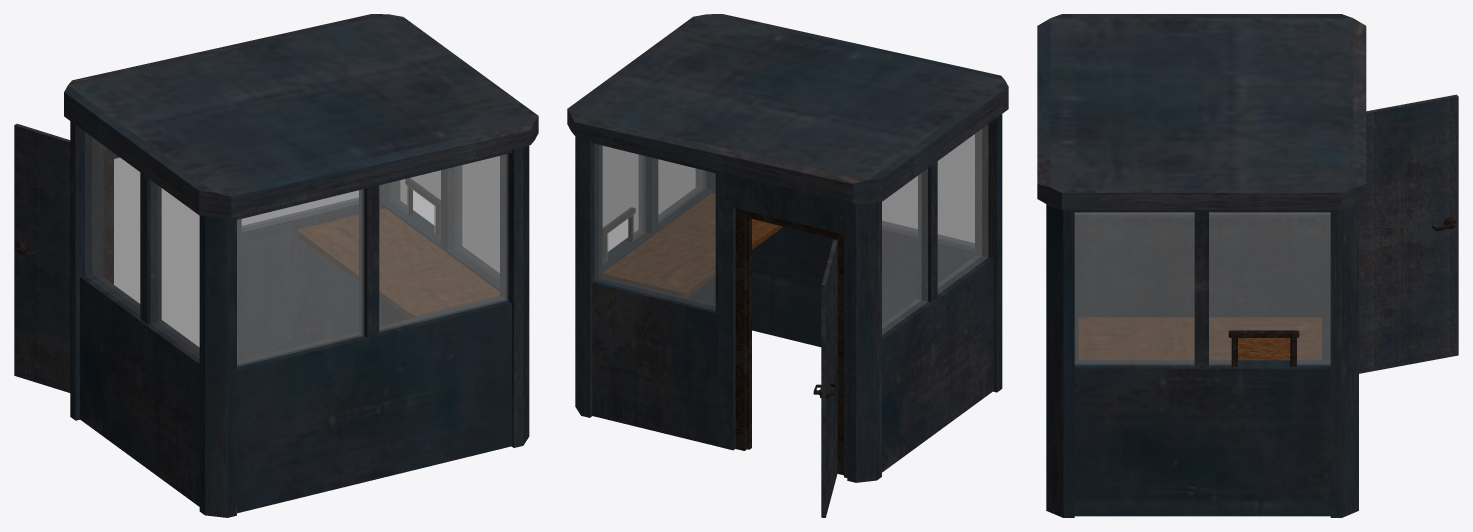
File: security_booth_optimised.glb
The picture shows the model from 3 angles, left to right: view 1: azimuth 30°, elevation 25°; view 2: azimuth 150°, elevation 25°; view 3: azimuth 270°, elevation 25°; orthographic projection. The views are drawn at different scales.
Visible parts, largest first — view 1: security_booth; view 2: security_booth; view 3: security_booth.
Boxes of the visible parts, box(x1,y1,x2,y2) form: security_booth: box(14, 14, 538, 517); security_booth: box(567, 14, 1008, 517); security_booth: box(1037, 14, 1458, 517).
Size of the model in its own units: 2.85 by 2.62 by 2.96.
5 materials, 4 textured.
